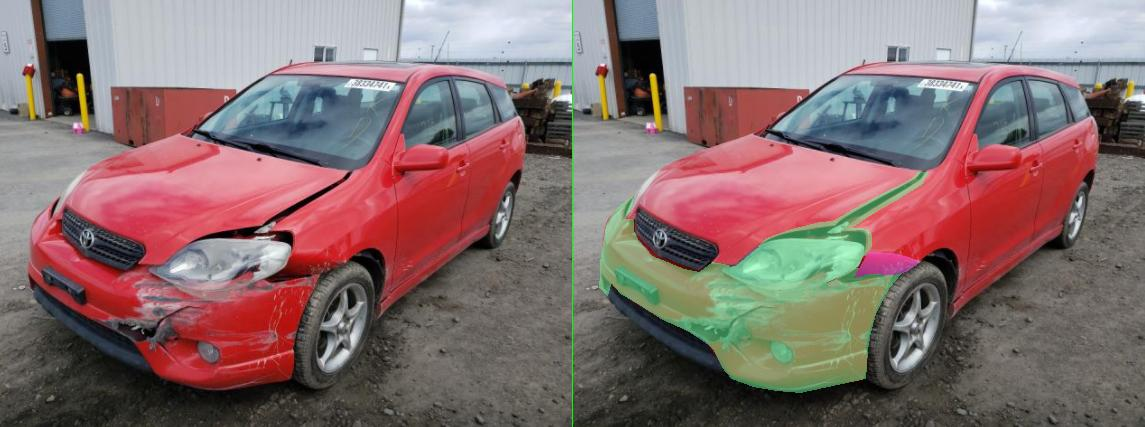Broken part: (52, 196, 667, 392), (370, 172, 711, 256), (296, 233, 581, 290), (88, 270, 160, 309)
Dent: (562, 252, 695, 277)
Paint chip: (288, 300, 436, 351), (264, 277, 366, 322)
Scratch: (212, 306, 394, 344)
